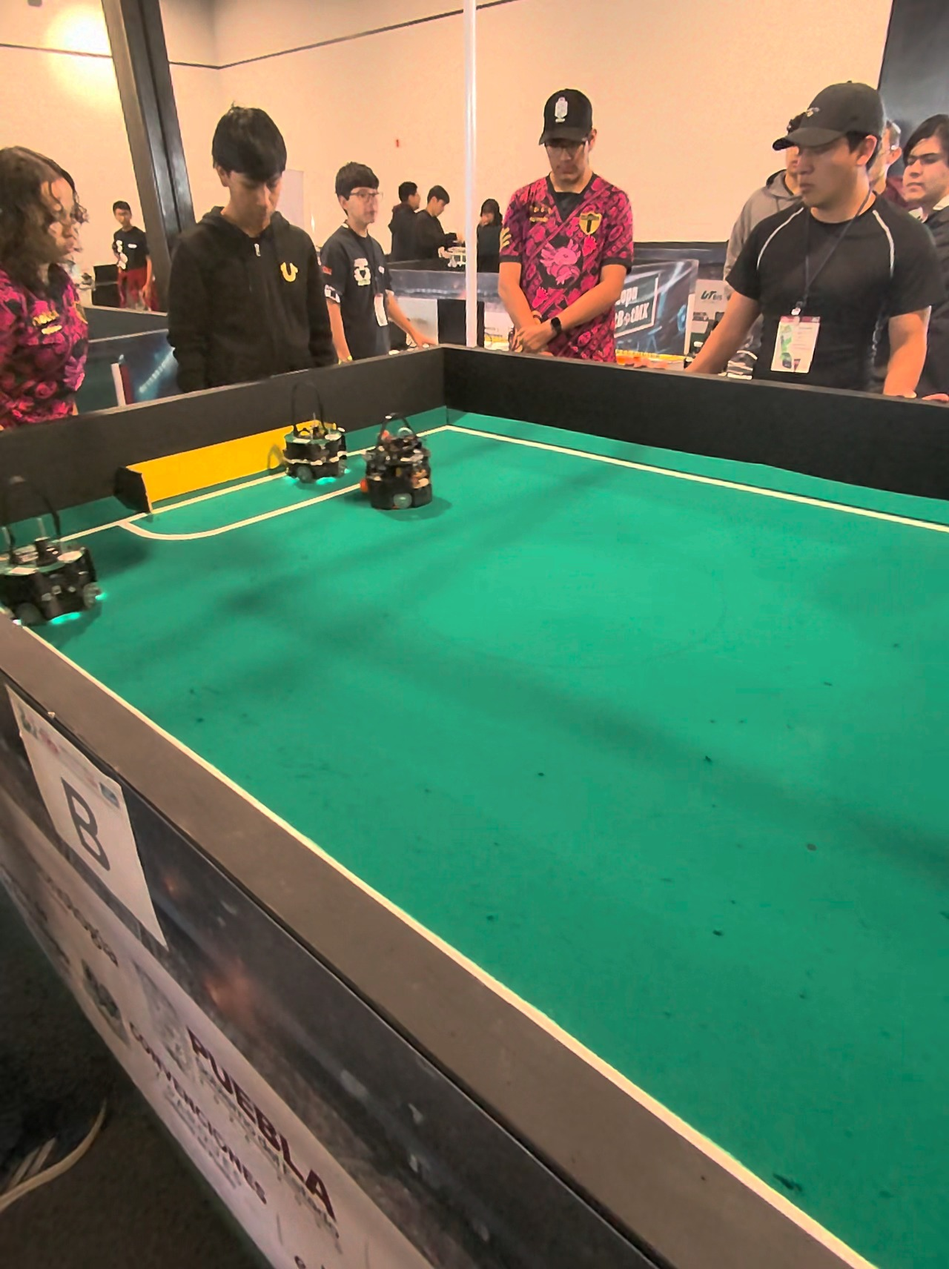Robot: (0, 508, 110, 640), (279, 377, 351, 485), (363, 411, 436, 516)
